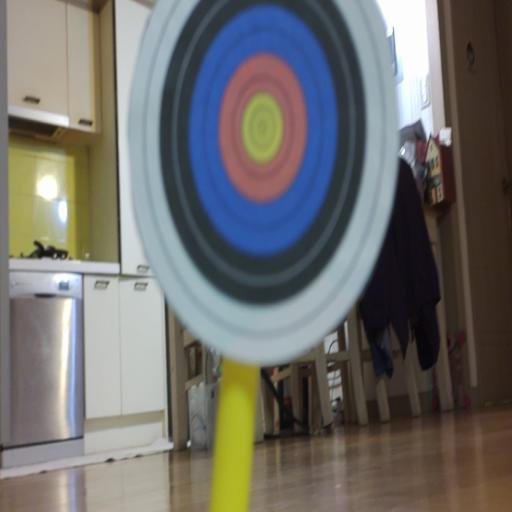target: (129, 0, 399, 366)
